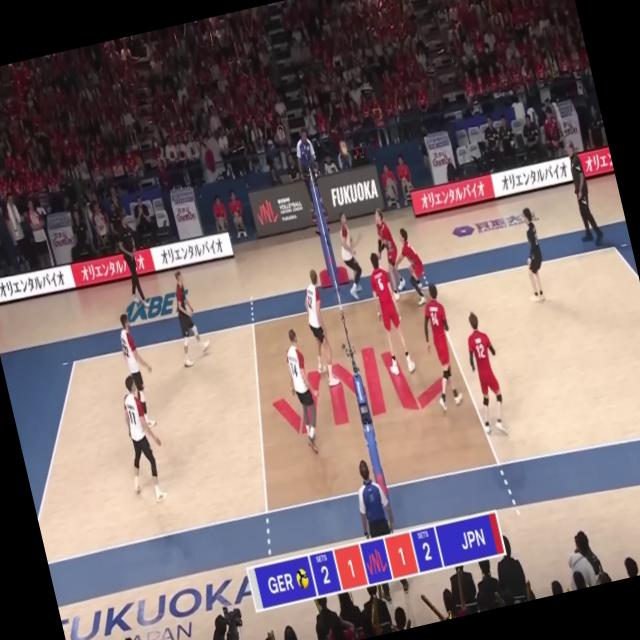referee: (344, 454, 412, 604)
team_one: (110, 377, 174, 505), (281, 324, 333, 460), (161, 265, 215, 373), (296, 268, 342, 392), (115, 310, 163, 424), (332, 206, 376, 296)
team_two: (413, 279, 469, 414), (457, 310, 514, 438), (362, 248, 416, 380), (511, 203, 553, 303), (368, 205, 409, 306), (386, 226, 432, 308)
